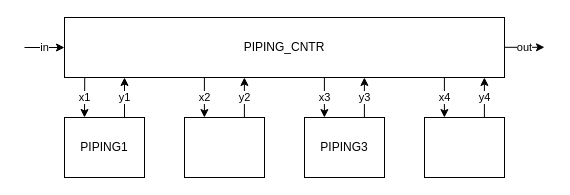
The diagram is 570 pixels wide and 195 high, and some of its shapes have lost their labels. The shapes that lost their labels are listed below. From the top down, each one's box as (x1, y1, x2, y2) in pixels, then its label:
(184, 116, 264, 178): PIPING2
(424, 116, 504, 178): PIPING4
